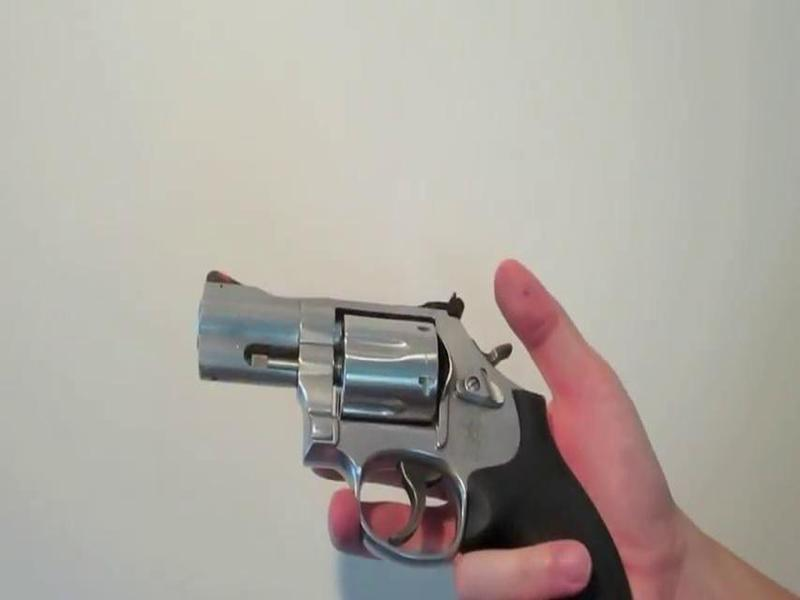Revolver: (149, 249, 638, 600)
